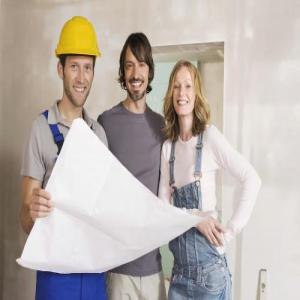none: (166, 58, 209, 131), (118, 32, 158, 102)
yellow: (53, 13, 103, 110)
